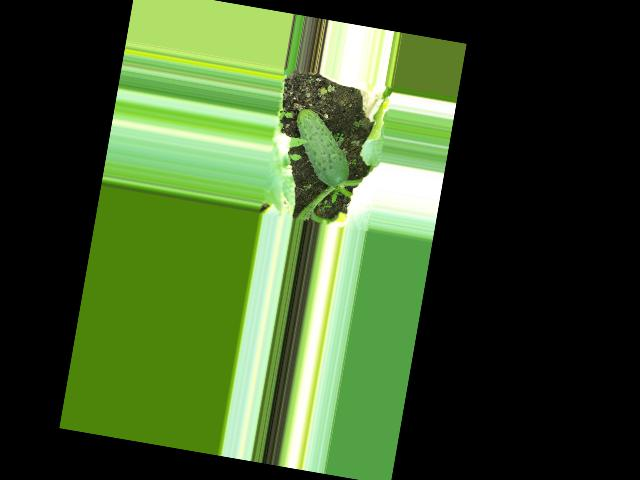cucumber: (286, 107, 358, 189)
